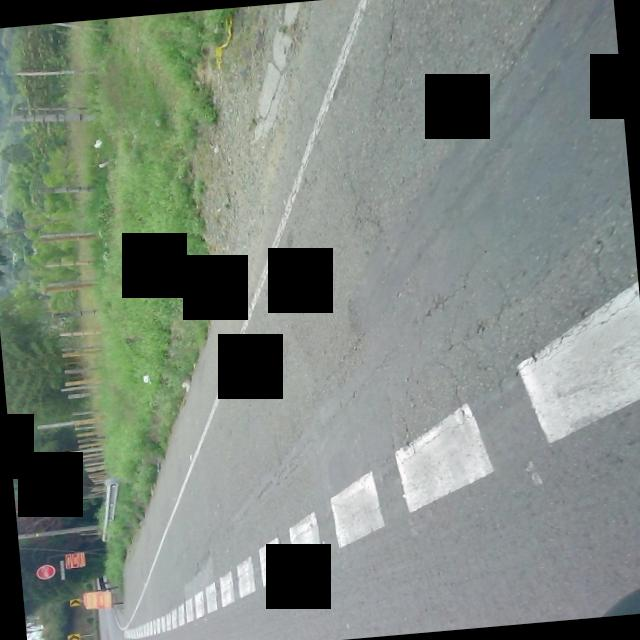DITCH: (57, 0, 640, 640), (112, 0, 640, 640)
